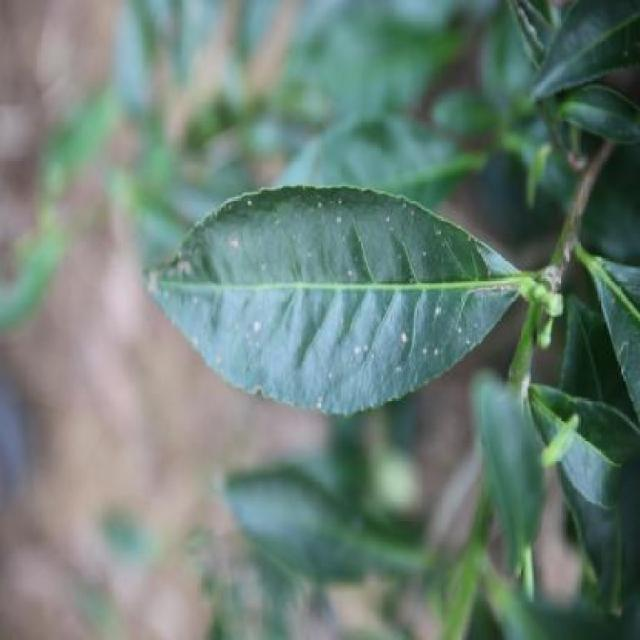Leaf rust of tea: (120, 197, 526, 428)
